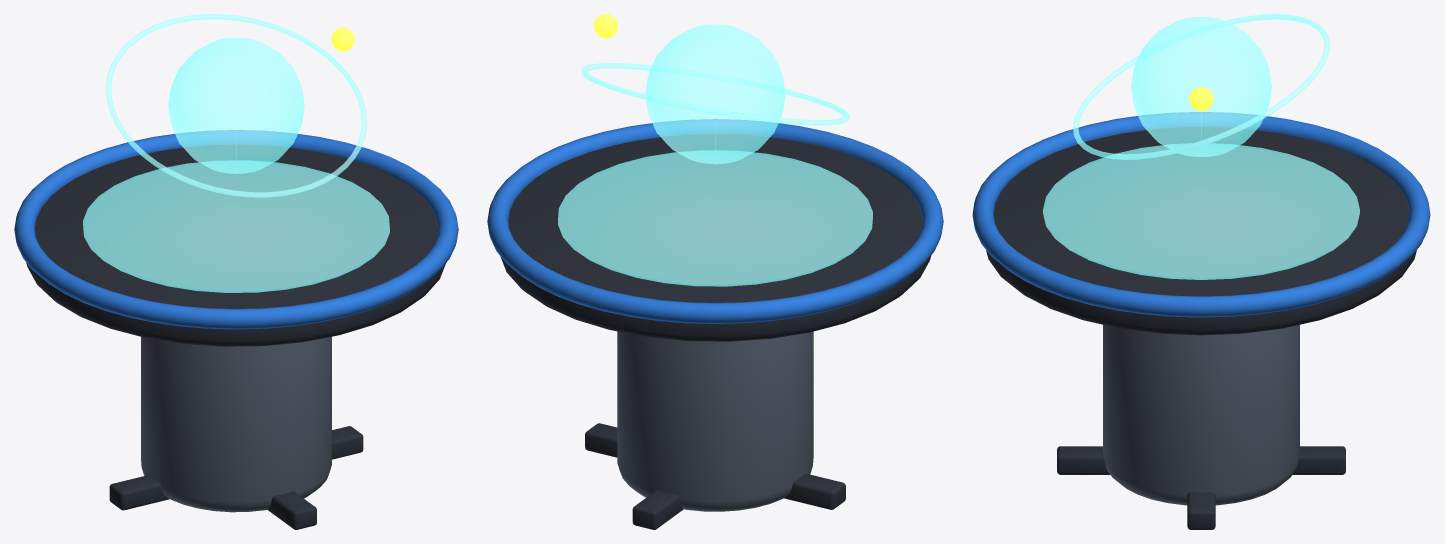
Rendered from Station_Nav.glb.
3 renders of one model, left to right at view 1: azimuth 30°, elevation 25°; view 2: azimuth 150°, elevation 25°; view 3: azimuth 270°, elevation 25°, orthographic. The views are drawn at different scales.
Parts seen in each view (by area): view 1: Station_Nav.Table, Station_Nav.Projector, Station_Nav.Pedestal, Station_Nav.Rim, Station_Nav.HoloPlanet, Station_Nav.HoloOrbit, Station_Nav.Foot.002, Station_Nav.Foot.003, Station_Nav.Foot; view 2: Station_Nav.Table, Station_Nav.Projector, Station_Nav.Pedestal, Station_Nav.Rim, Station_Nav.HoloPlanet, Station_Nav.HoloOrbit, Station_Nav.Foot.002, Station_Nav.Foot.001, Station_Nav.Foot; view 3: Station_Nav.Table, Station_Nav.Projector, Station_Nav.Pedestal, Station_Nav.Rim, Station_Nav.HoloPlanet, Station_Nav.HoloOrbit, Station_Nav.Foot.001, Station_Nav.Foot.003, Station_Nav.Foot.
Part boxes in pixels (x1=…): Station_Nav.Table: x1=26, y1=145, x2=445, y2=346; Station_Nav.Projector: x1=83, y1=161, x2=389, y2=292; Station_Nav.Pedestal: x1=141, y1=336, x2=331, y2=512; Station_Nav.Rim: x1=14, y1=130, x2=458, y2=329; Station_Nav.HoloPlanet: x1=168, y1=37, x2=304, y2=173; Station_Nav.HoloOrbit: x1=106, y1=14, x2=366, y2=197; Station_Nav.Foot.002: x1=109, y1=475, x2=169, y2=510; Station_Nav.Foot.003: x1=267, y1=491, x2=316, y2=529; Station_Nav.Foot: x1=332, y1=426, x2=363, y2=459; Station_Nav.Table: x1=500, y1=134, x2=931, y2=341; Station_Nav.Projector: x1=558, y1=151, x2=872, y2=286; Station_Nav.Pedestal: x1=617, y1=331, x2=813, y2=511; Station_Nav.Rim: x1=487, y1=119, x2=943, y2=323; Station_Nav.HoloPlanet: x1=645, y1=24, x2=785, y2=164; Station_Nav.HoloOrbit: x1=581, y1=63, x2=849, y2=125; Station_Nav.Foot.002: x1=784, y1=473, x2=845, y2=509; Station_Nav.Foot.001: x1=632, y1=490, x2=683, y2=529; Station_Nav.Foot: x1=585, y1=423, x2=617, y2=457; Station_Nav.Table: x1=986, y1=127, x2=1416, y2=335; Station_Nav.Projector: x1=1043, y1=144, x2=1359, y2=279; Station_Nav.Pedestal: x1=1103, y1=324, x2=1299, y2=505; Station_Nav.Rim: x1=972, y1=112, x2=1430, y2=317; Station_Nav.HoloPlanet: x1=1131, y1=16, x2=1271, y2=156; Station_Nav.HoloOrbit: x1=1073, y1=14, x2=1329, y2=159; Station_Nav.Foot.001: x1=1292, y1=446, x2=1345, y2=474; Station_Nav.Foot.003: x1=1057, y1=446, x2=1110, y2=474; Station_Nav.Foot: x1=1187, y1=492, x2=1215, y2=529.
Bounding box in the file's own units: 1.3 × 1.4 × 1.3.
